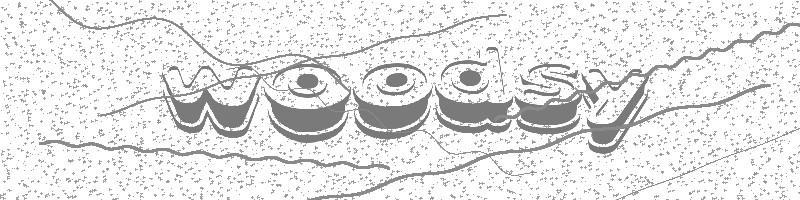d: (435, 42, 514, 134)
o: (263, 60, 351, 143), (354, 62, 433, 139)
s: (511, 57, 584, 136)
w: (158, 65, 261, 140)
y: (581, 62, 653, 157)
